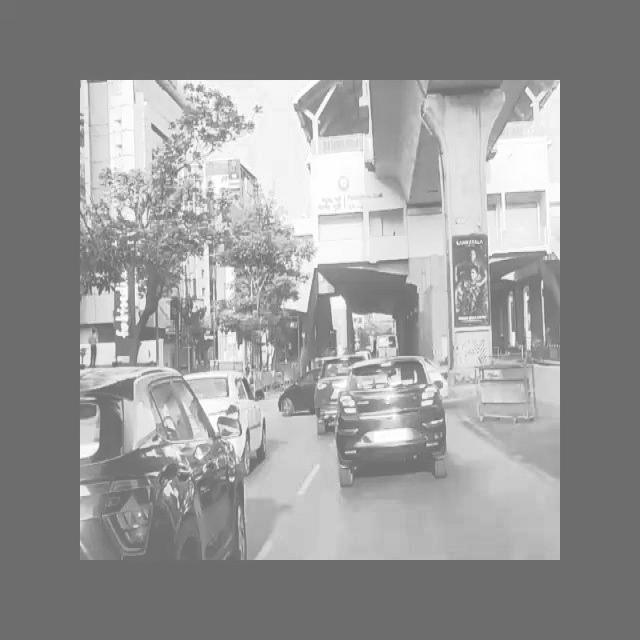Car: (78, 346, 249, 570), (342, 359, 447, 485), (202, 364, 278, 490), (292, 359, 351, 415)
